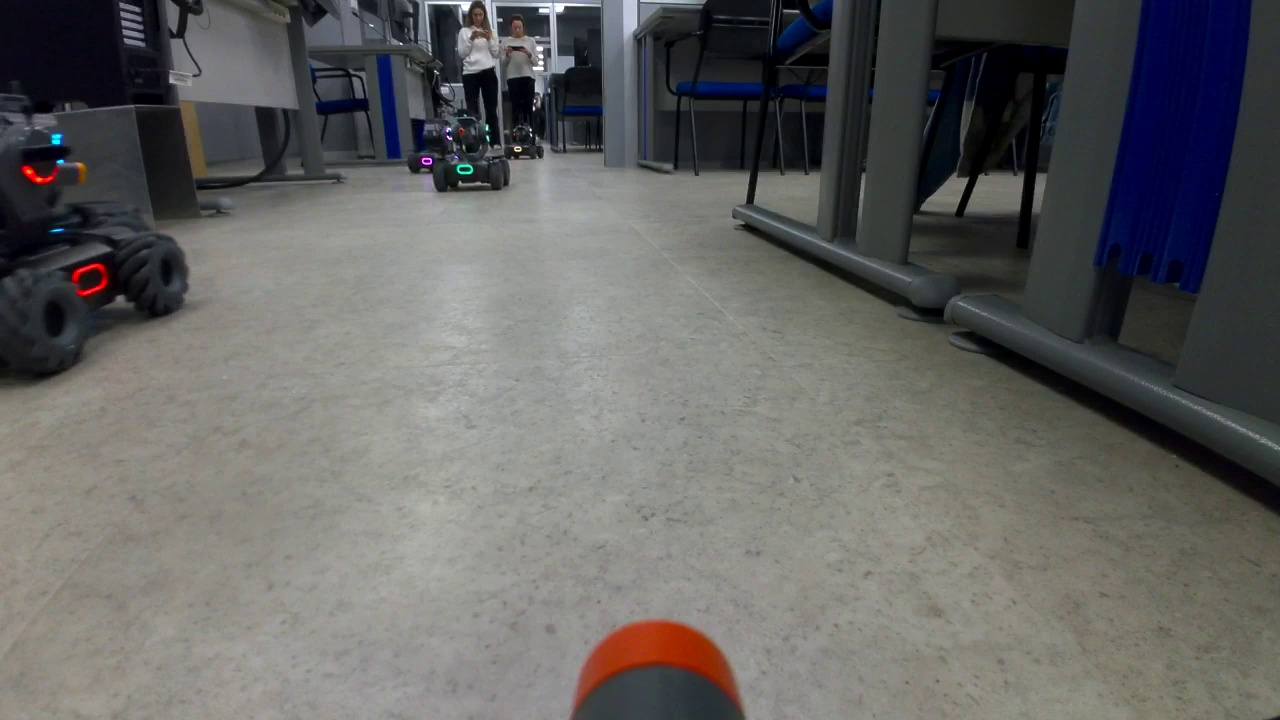robot: (1, 95, 199, 382), (431, 112, 512, 192), (408, 123, 451, 177), (503, 124, 545, 163)
